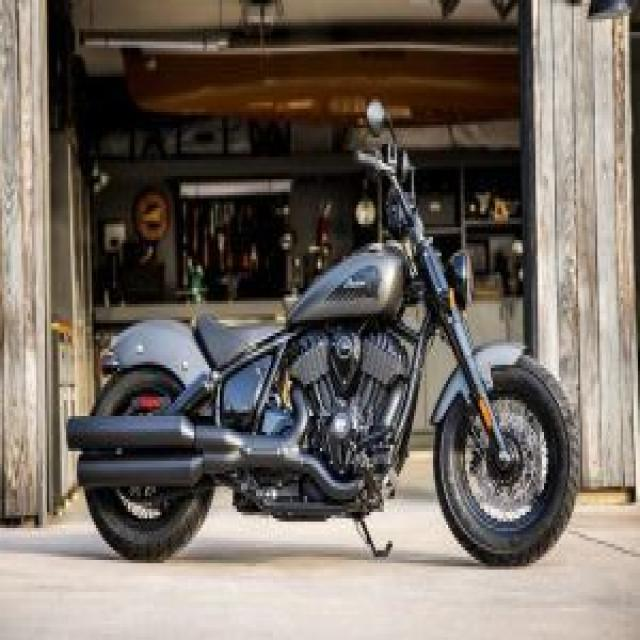motorcycle: (68, 101, 579, 563)
